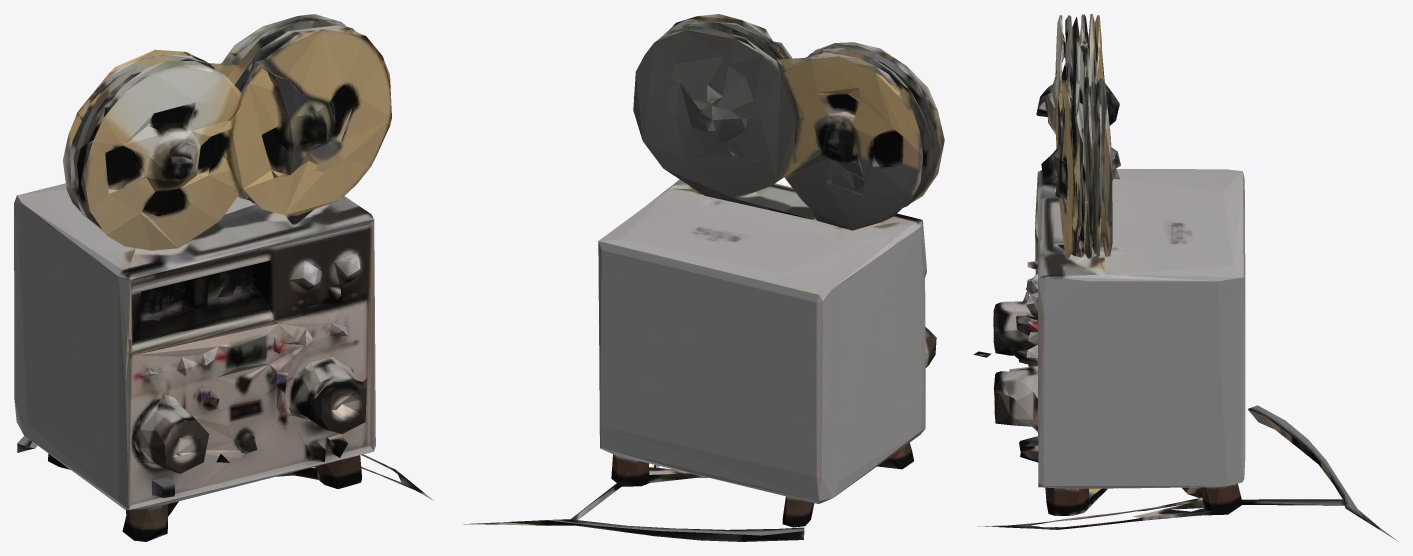
File: reel_to_reel.glb
The picture shows the model from 3 angles, left to right: view 1: azimuth 30°, elevation 25°; view 2: azimuth 150°, elevation 25°; view 3: azimuth 270°, elevation 25°; orthographic projection. The views are drawn at different scales.
Parts seen in each view (by area): view 1: textured_mesh.obj; view 2: textured_mesh.obj; view 3: textured_mesh.obj.
Part boxes in pixels (bbox=[...]): textured_mesh.obj: bbox=[14, 14, 433, 541]; textured_mesh.obj: bbox=[463, 14, 944, 541]; textured_mesh.obj: bbox=[973, 14, 1396, 540].
Size of the model in its own units: 0.8563 by 1.1 by 1.03.
Materials: 1 (1 with a texture image).
